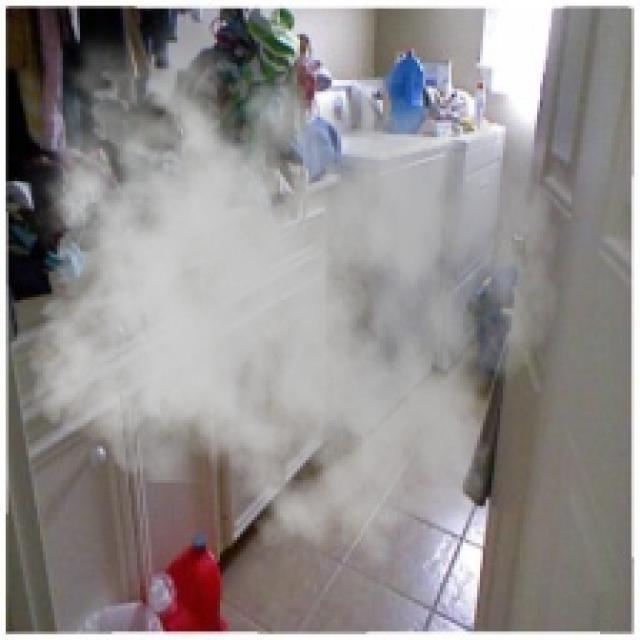Smoke: (11, 0, 560, 569)
